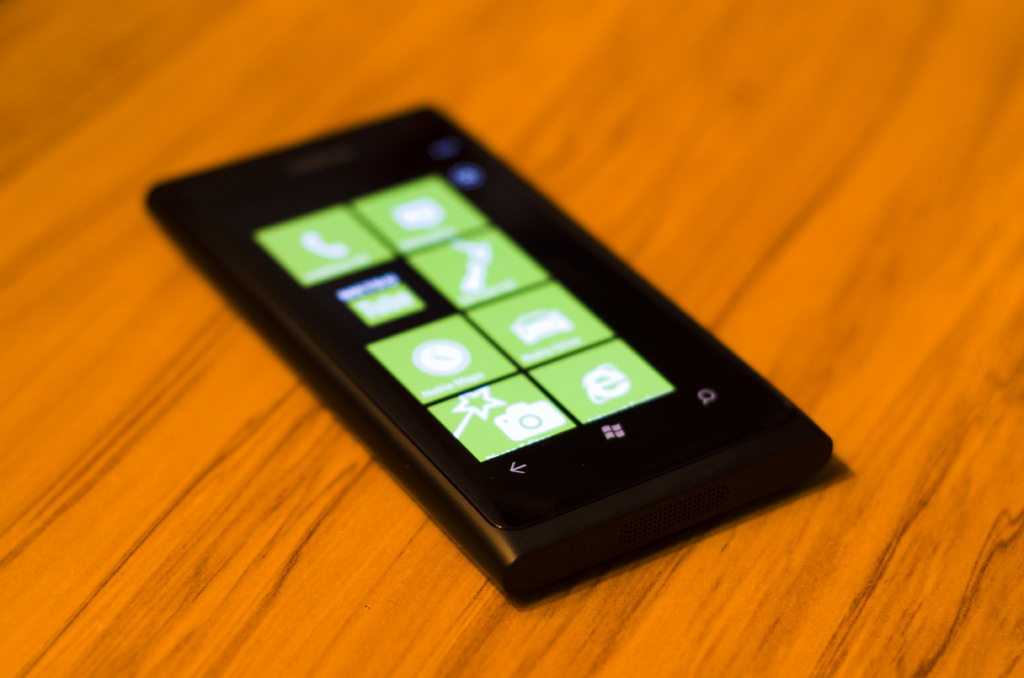mobile phone: (136, 96, 831, 602)
